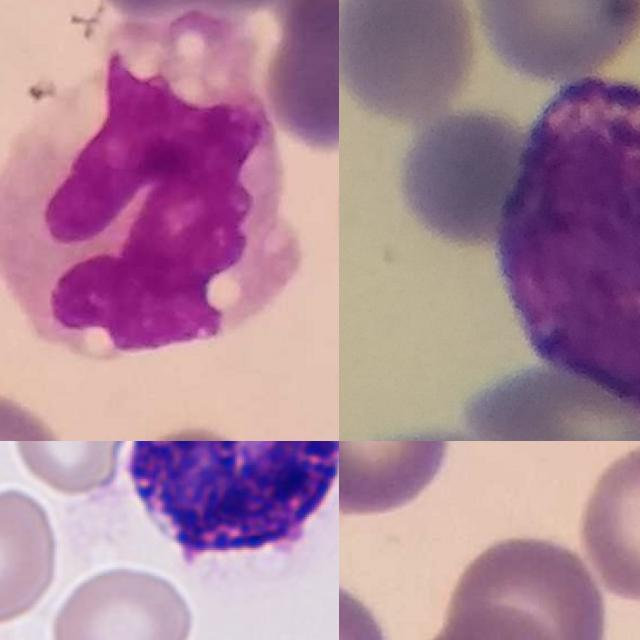Basophil: (501, 83, 640, 405), (106, 441, 339, 604)
Monocyte: (0, 19, 299, 358)
RBC: (46, 562, 196, 640), (0, 484, 62, 629), (8, 441, 134, 496)
